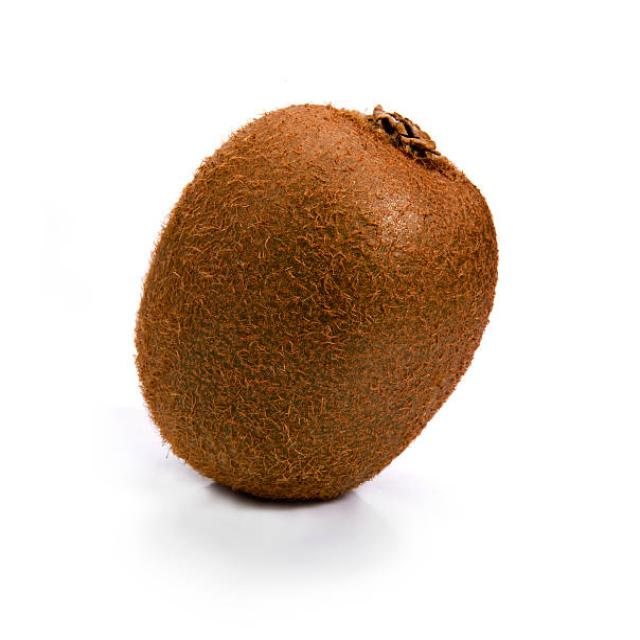kiwi: (137, 106, 498, 500)
